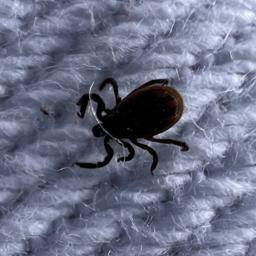Ixodes scapularis: (75, 78, 191, 171)
